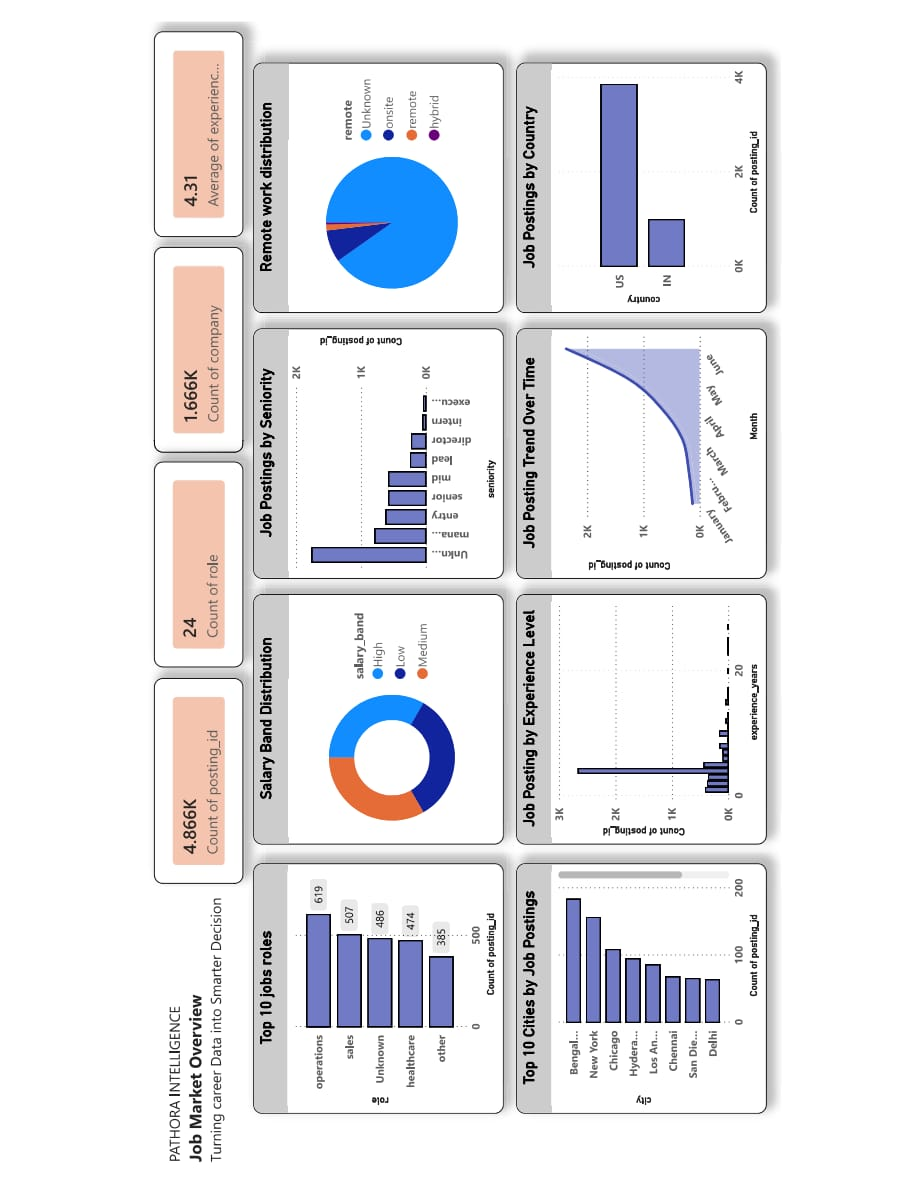

This screenshot's page, from the dashboard's own definition file:
{"tool":"powerbi","page":{"name":"Job Market Overview","canvas":[1280,720],"ordinal":0},"visuals":[{"type":"cardVisual","fields":{"Data":["CountNonNull(Balanced_dataset.posting_id)"]},"box":[316.1,19,230,100],"z":0},{"type":"cardVisual","fields":{"Data":["Count(Balanced_dataset.company)"]},"box":[797.6,19,230,100],"z":1000},{"type":"cardVisual","fields":{"Data":["Count(Balanced_dataset.role)"]},"box":[557.6,19,230,100],"z":2000},{"type":"cardVisual","fields":{"Data":["Avg(Balanced_dataset.experience_years)"]},"box":[1039,19,230,100],"z":3000},{"type":"clusteredBarChart","title":"Top 10 jobs roles","fields":{"Category":["Balanced_dataset.role"],"Y":["CountNonNull(Balanced_dataset.posting_id)"]},"box":[58.6,130,280,280],"z":4000},{"type":"textbox","box":[0,25.7,311.7,84.9],"z":5000},{"type":"donutChart","title":"Salary Band Distribution","fields":{"Category":["Balanced_dataset.salary_band"],"Y":["CountNonNull(Balanced_dataset.posting_id)"]},"box":[360,130,280,280],"z":6000},{"type":"clusteredColumnChart","title":"Job Postings by Seniority","fields":{"Category":["Balanced_dataset.seniority"],"Y":["CountNonNull(Balanced_dataset.posting_id)"]},"box":[657.1,130,280,280],"z":7000},{"type":"clusteredBarChart","title":"Top 10 Cities by Job Postings","fields":{"Category":["Balanced_dataset.city"],"Y":["CountNonNull(Balanced_dataset.posting_id)"]},"box":[58.6,424.3,280.5,280],"z":8000},{"type":"pieChart","title":"remote work distribution","fields":{"Category":["Balanced_dataset.remote"],"Y":["CountNonNull(Balanced_dataset.posting_id)"]},"box":[954.3,130,280,280],"z":9000},{"type":"clusteredColumnChart","title":"Job Posting by Experience Level","fields":{"Category":["Balanced_dataset.experience_years"],"Y":["CountNonNull(Balanced_dataset.posting_id)"]},"box":[360,424,280,280],"z":9001},{"type":"lineChart","title":"Job Posting Trend Over Time","fields":{"Y":["CountNonNull(Balanced_dataset.posting_id)"],"Category":["Balanced_dataset.posted_date.Variation.Date Hierarchy.Year","Balanced_dataset.posted_date.Variation.Date Hierarchy.Quarter","Balanced_dataset.posted_date.Variation.Date Hierarchy.Month","Balanced_dataset.posted_date.Variation.Date Hierarchy.Day"]},"box":[657,424,280,280],"z":9002},{"type":"clusteredBarChart","title":"Job Postings by Country","fields":{"Category":["Balanced_dataset.country"],"Y":["CountNonNull(Balanced_dataset.posting_id)"]},"box":[954,424,280,280],"z":9003}]}

Visuals, with their boxes on the page's 1280x720 design canvas (x1, y1, x2, y2). These are canvas units, not pixel positions in the 918x1188 screenshot, which may show the page scaled, cropped or inside an application window:
cardVisual - CountNonNull(Balanced_dataset.posting_id): 316/19/546/119
cardVisual - Count(Balanced_dataset.company): 798/19/1028/119
cardVisual - Count(Balanced_dataset.role): 558/19/788/119
cardVisual - Avg(Balanced_dataset.experience_years): 1039/19/1269/119
"Top 10 jobs roles" clusteredBarChart: 59/130/339/410
textbox: 0/26/312/111
"Salary Band Distribution" donutChart: 360/130/640/410
"Job Postings by Seniority" clusteredColumnChart: 657/130/937/410
"Top 10 Cities by Job Postings" clusteredBarChart: 59/424/339/704
"remote work distribution" pieChart: 954/130/1234/410
"Job Posting by Experience Level" clusteredColumnChart: 360/424/640/704
"Job Posting Trend Over Time" lineChart: 657/424/937/704
"Job Postings by Country" clusteredBarChart: 954/424/1234/704
